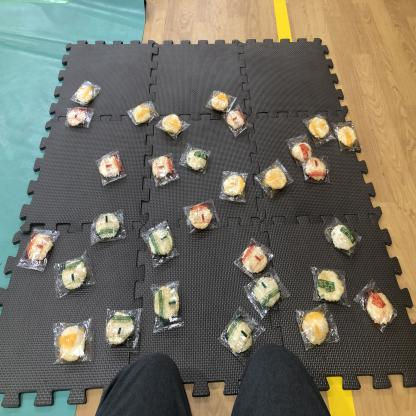green_setoshio: (220, 311, 262, 362), (147, 278, 187, 331), (139, 218, 180, 267), (308, 261, 350, 306), (101, 305, 143, 349), (244, 274, 285, 316), (325, 218, 361, 262), (55, 255, 93, 296), (89, 205, 126, 245), (181, 144, 214, 176)
red_setoshio: (361, 286, 399, 328), (22, 224, 54, 268), (237, 240, 273, 276), (185, 199, 219, 234), (146, 151, 178, 184), (96, 148, 126, 180), (300, 153, 333, 181), (224, 107, 252, 136), (66, 108, 96, 130), (290, 138, 313, 163)
yellow_setoshio: (291, 304, 339, 349), (52, 318, 97, 363), (216, 166, 249, 202), (258, 159, 289, 191), (159, 109, 188, 139), (71, 77, 101, 105), (129, 99, 159, 127), (304, 111, 332, 140), (335, 121, 360, 153), (206, 88, 236, 112)
